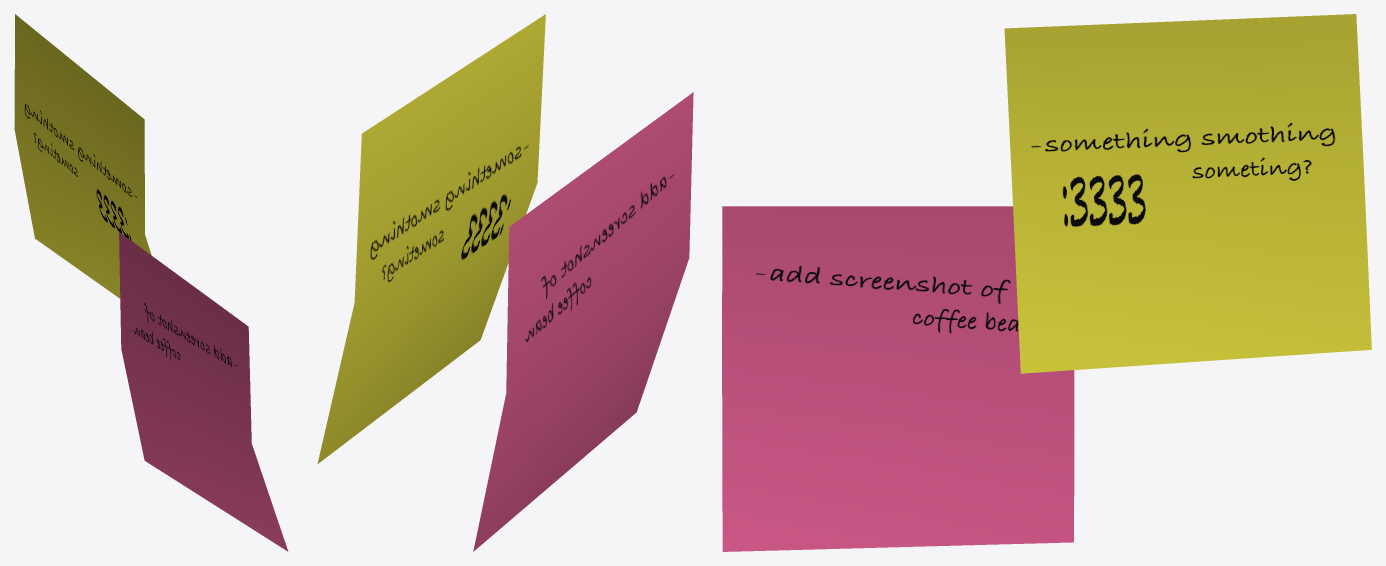
Rendered from Sticky-Notes.fbx.
3 renders of one model, left to right at view 1: azimuth 30°, elevation 25°; view 2: azimuth 150°, elevation 25°; view 3: azimuth 270°, elevation 25°, orthographic. The views are drawn at different scales.
Visible parts, largest first — view 1: Plane.001, Plane.002; view 2: Plane.002, Plane.001; view 3: Plane.002, Plane.001.
Part boxes in pixels (x1,y1,x2,y2): Plane.001: (119, 232, 288, 551); Plane.002: (14, 14, 151, 298); Plane.002: (317, 14, 545, 463); Plane.001: (473, 92, 693, 551); Plane.002: (1004, 14, 1371, 373); Plane.001: (722, 206, 1074, 551).
Size of the model in its own units: 47.45 by 428 by 493.
